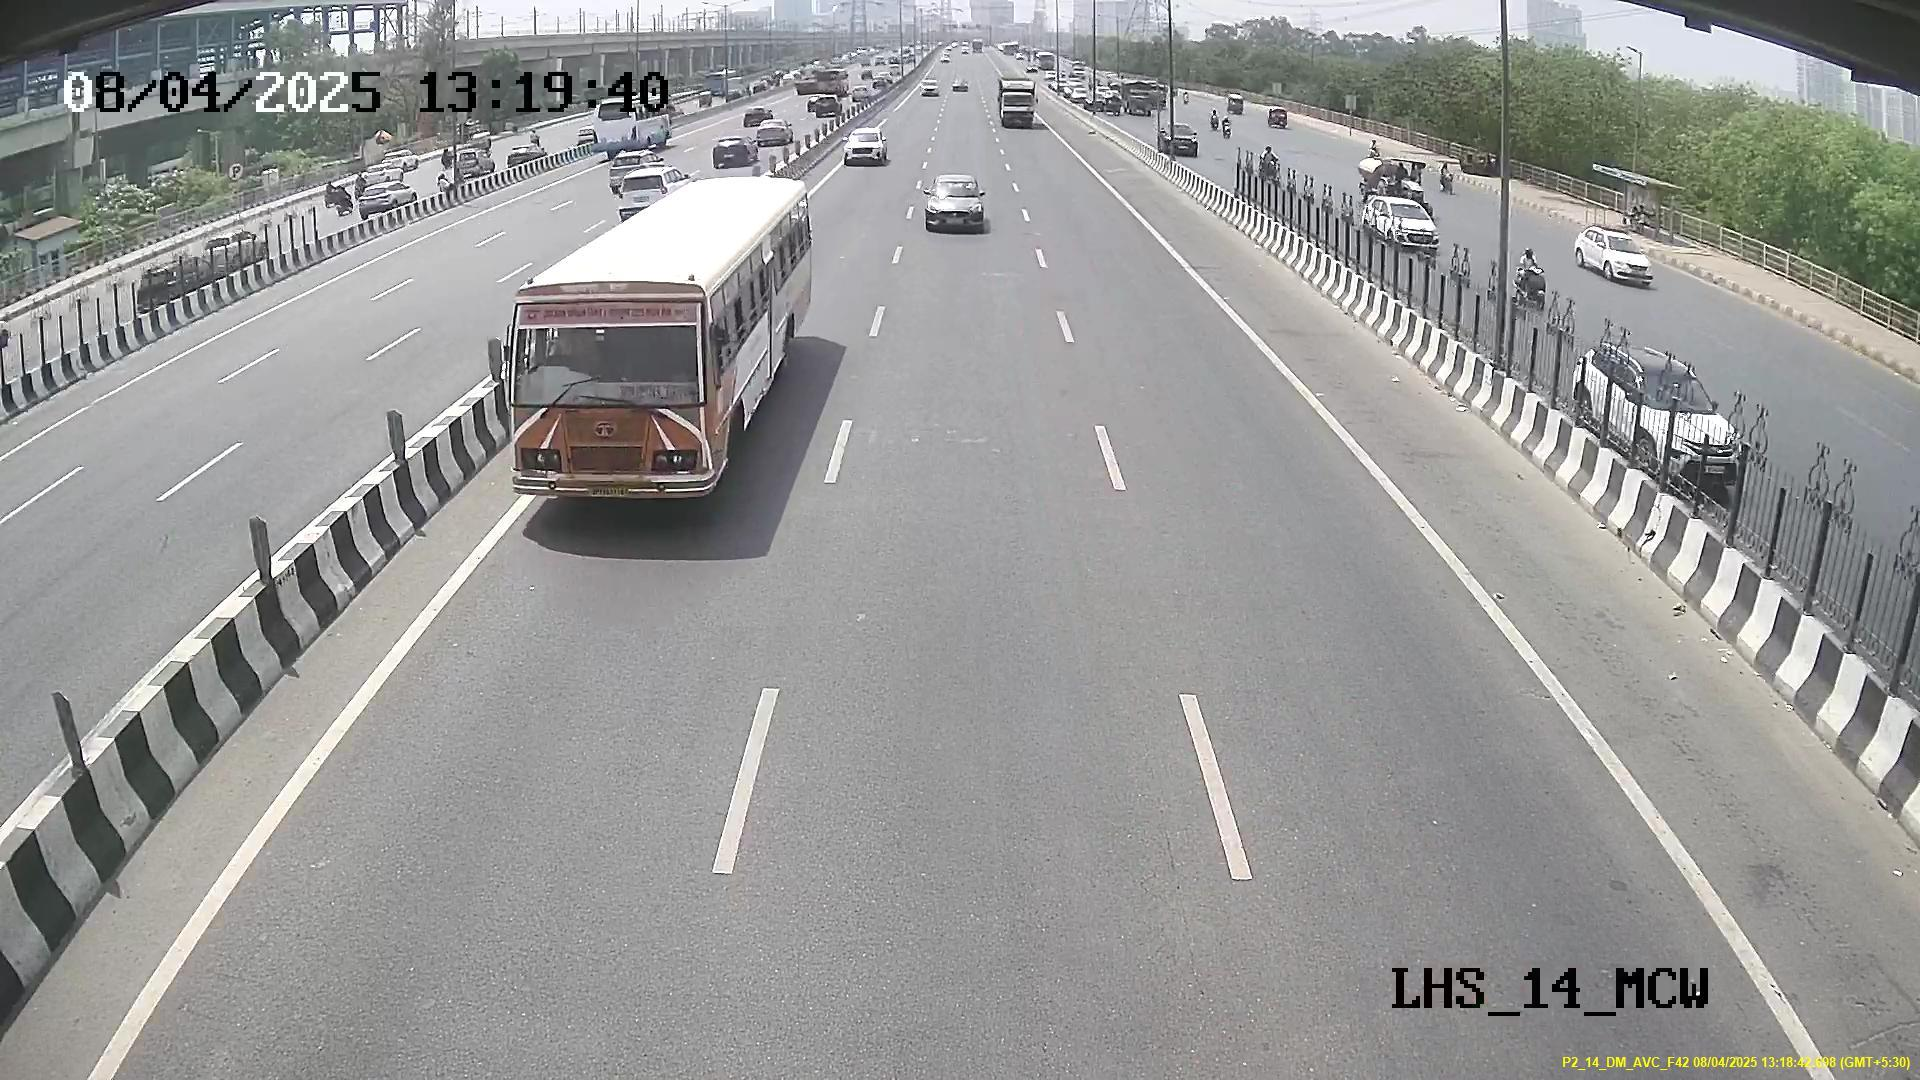bus: (498, 241, 774, 512)
car: (919, 175, 990, 237)
